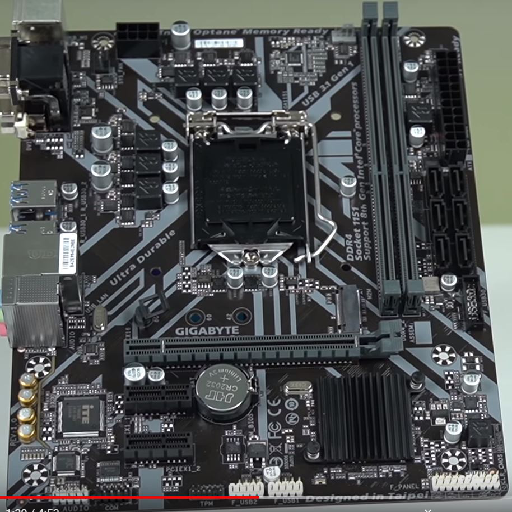CPU: (186, 124, 310, 271)
GPU: (124, 321, 403, 360)
MOTHERBOARD: (8, 15, 507, 505)
RAM: (358, 6, 427, 318)
SSD: (337, 281, 365, 333)
